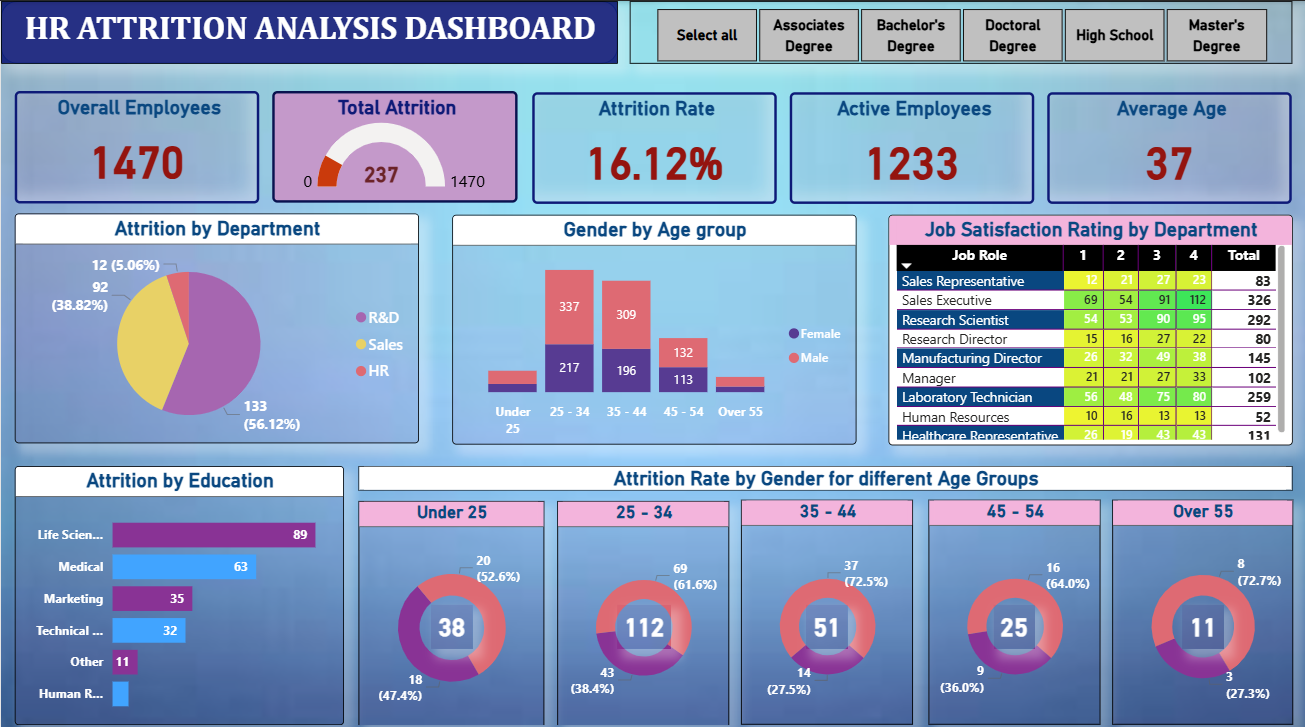

This screenshot's page, from the dashboard's own definition file:
{"tool":"powerbi","page":{"name":"Page 1","canvas":[1280,720],"ordinal":0},"visuals":[{"type":"card","title":"Overall Employees ","fields":{"Values":["Sum(HR Data.Employee Count)"]},"box":[13.3,88,240,110],"z":0},{"type":"shape","box":[0,0,605.4,61.5],"z":1000},{"type":"textbox","box":[0,0,605.4,61.5],"z":2000},{"type":"card","title":"Attrition Rate","fields":{"Values":["HR Data.Attrition Rate"]},"box":[521,89.2,240,109.7],"z":4000},{"type":"card","title":"Active Employees","fields":{"Values":["HR Data.Active Employees"]},"box":[774.3,89.2,240,109.7],"z":5000},{"type":"card","title":"Average Age ","fields":{"Values":["Avg(HR Data.Age)"]},"box":[1027.5,89.2,240,109.7],"z":6000},{"type":"pieChart","title":"Attrition by Department","fields":{"Category":["HR Data.Department"],"Y":["Sum(HR Data.Attrition Count )"]},"box":[13.3,208.6,396.8,225.5],"z":7000},{"type":"columnChart","title":"Gender by Age group","fields":{"Y":["Sum(HR Data.Employee Count)"],"Category":["HR Data.CF_age band"],"Series":["HR Data.Gender"]},"box":[442.6,209.8,396.8,225.5],"z":8000},{"type":"pivotTable","title":"Job Satisfaction Rating by Department","fields":{"Rows":["HR Data.Job Role"],"Columns":["HR Data.Job Satisfaction"],"Values":["Sum(HR Data.Employee Count)"]},"box":[870.8,209.8,396.8,226.7],"z":9000},{"type":"barChart","title":"Attrition by Education ","fields":{"Category":["HR Data.Education Field"],"Y":["Sum(HR Data.Attrition Count )"]},"box":[13.3,455.9,323.2,254.5],"z":10000},{"type":"donutChart","title":"Under 25","fields":{"Category":["HR Data.Gender"],"Y":["Sum(HR Data.Attrition Count )"],"Series":["HR Data.CF_age band"]},"box":[351,490.9,182.1,220.7],"z":11000},{"type":"textbox","title":"Attrition Rate by Gender for different Age Groups ","box":[351,455.9,916.6,24.1],"z":12000},{"type":"donutChart","title":" 25 - 34","fields":{"Category":["HR Data.Gender"],"Y":["Sum(HR Data.Attrition Count )"],"Series":["HR Data.CF_age band"]},"box":[546.3,490.9,168.8,220.7],"z":13000},{"type":"donutChart","title":"35 - 44","fields":{"Category":["HR Data.Gender"],"Y":["Sum(HR Data.Attrition Count )"],"Series":["HR Data.CF_age band"]},"box":[726,489.6,168.8,220.7],"z":14000},{"type":"donutChart","title":"45 - 54","fields":{"Category":["HR Data.Gender"],"Y":["Sum(HR Data.Attrition Count )"],"Series":["HR Data.CF_age band"]},"box":[910.6,489.6,168.8,220.7],"z":15000},{"type":"donutChart","title":"Over 55","fields":{"Category":["HR Data.Gender"],"Y":["Sum(HR Data.Attrition Count )"],"Series":["HR Data.CF_age band"]},"box":[1090.3,489.6,177.3,220.7],"z":16000},{"type":"card","fields":{"Values":["Sum(HR Data.Attrition Count )"]},"box":[422.1,592.2,41,43.4],"z":17000},{"type":"card","fields":{"Values":["Sum(HR Data.Attrition Count )"]},"box":[605.4,592.2,53.1,43.4],"z":18000},{"type":"card","fields":{"Values":["Sum(HR Data.Attrition Count )"]},"box":[789.9,592.2,41,43.4],"z":19000},{"type":"card","fields":{"Values":["Sum(HR Data.Attrition Count )"]},"box":[974.5,592.2,41,43.4],"z":20000},{"type":"card","fields":{"Values":["Sum(HR Data.Attrition Count )"]},"box":[1159,592.2,41,43.4],"z":21000},{"type":"slicer","fields":{"Values":["HR Data.Education"]},"box":[617.5,0,650.1,61.5],"z":22000},{"type":"gauge","title":"Total Attrition","fields":{"Y":["Sum(HR Data.Attrition Count )"],"MaxValue":["Sum(HR Data.Employee Count)"]},"box":[266.3,88.3,240.5,109.2],"z":23000}]}

Visuals, with their boxes in screenshot pixels (x1, y1, x2, y2), scaled from the page's 1280x720 canvas onto the 1305x727 screenshot:
"Overall Employees " card: 14:89:258:200
shape: 0:0:617:62
textbox: 0:0:617:62
"Attrition Rate" card: 531:90:776:201
"Active Employees" card: 789:90:1034:201
"Average Age " card: 1048:90:1292:201
"Attrition by Department" pieChart: 14:211:418:438
"Gender by Age group" columnChart: 451:212:856:440
"Job Satisfaction Rating by Department" pivotTable: 888:212:1292:441
"Attrition by Education " barChart: 14:460:343:717
"Under 25" donutChart: 358:496:544:719
"Attrition Rate by Gender for different Age Groups " textbox: 358:460:1292:485
" 25 - 34" donutChart: 557:496:729:719
"35 - 44" donutChart: 740:494:912:717
"45 - 54" donutChart: 928:494:1100:717
"Over 55" donutChart: 1112:494:1292:717
card - Sum(HR Data.Attrition Count ): 430:598:472:642
card - Sum(HR Data.Attrition Count ): 617:598:671:642
card - Sum(HR Data.Attrition Count ): 805:598:847:642
card - Sum(HR Data.Attrition Count ): 994:598:1035:642
card - Sum(HR Data.Attrition Count ): 1182:598:1223:642
slicer - HR Data.Education: 630:0:1292:62
"Total Attrition" gauge: 272:89:517:199
